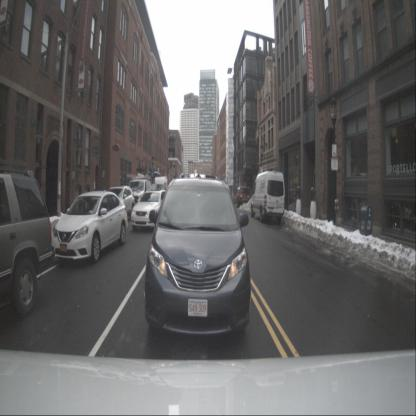vehicle-car: (144, 179, 251, 342), (0, 171, 56, 319), (51, 190, 128, 264), (250, 170, 286, 224), (130, 190, 170, 232), (100, 185, 136, 220), (128, 178, 152, 208), (233, 186, 252, 209), (148, 184, 160, 198)
vehicle-truck: (154, 176, 168, 202)
